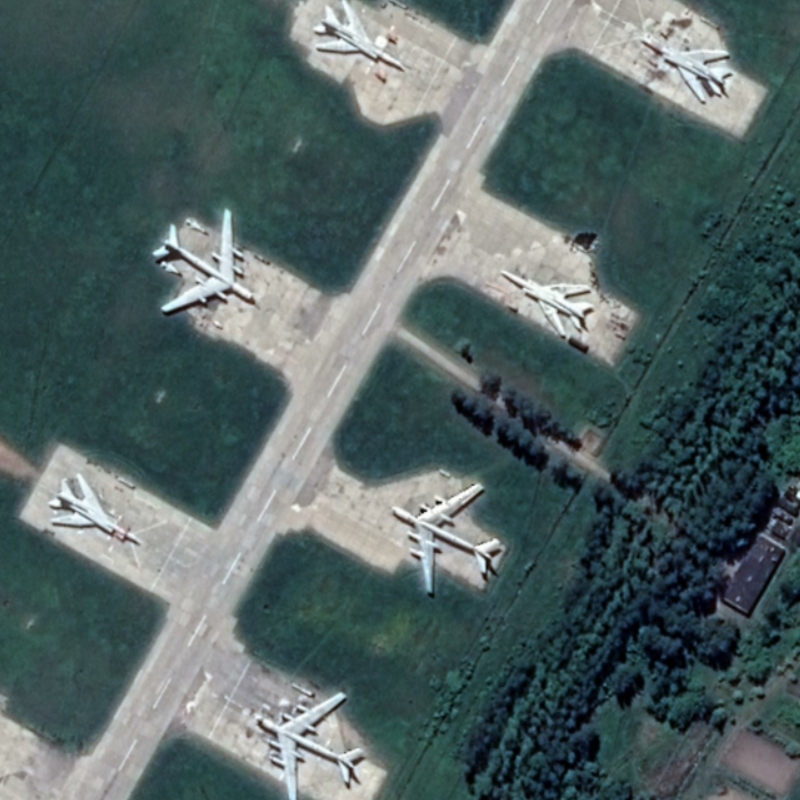A12: (46, 472, 146, 546), (312, 1, 409, 73), (498, 268, 595, 338), (640, 35, 733, 104)
A17: (389, 481, 503, 596), (255, 690, 365, 800), (150, 206, 256, 315)
